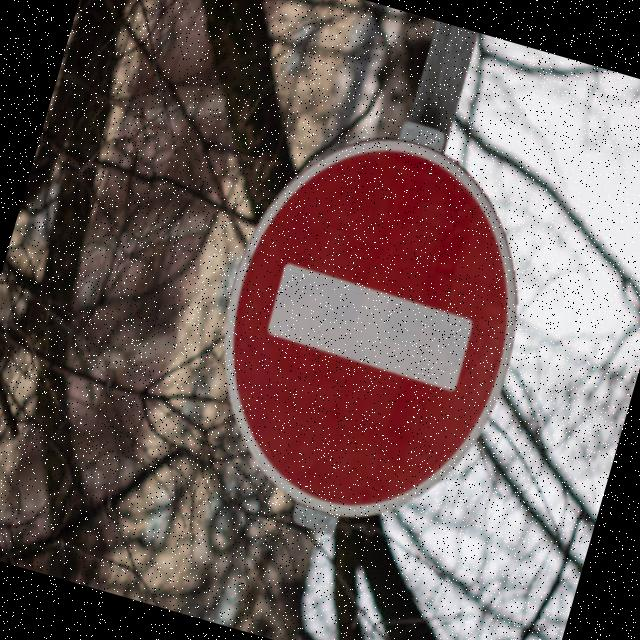do_not_enter: (174, 92, 560, 545)
